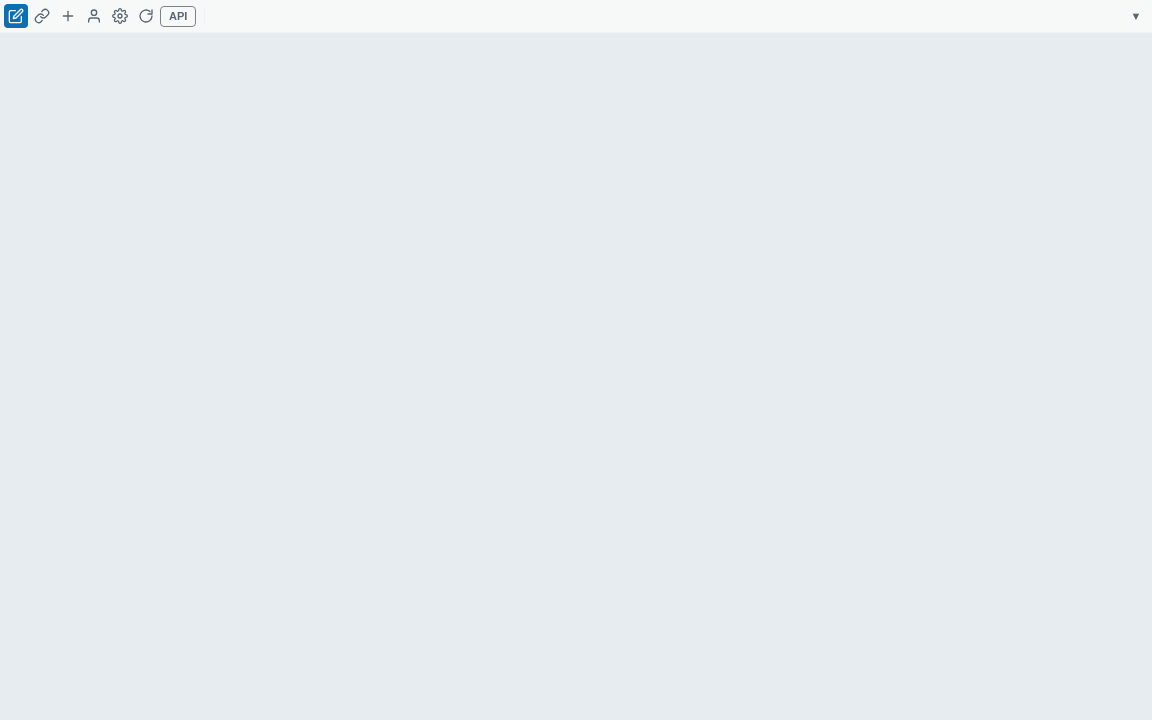
it: App (Linux向け動画再生設定の配線) › linuxではアプリ設定にハードウェアデコードの項目が表示される
The width and height of the screenshot is (1152, 720).
Click the button titled "アプリ設定 (Ctrl+,)" at (120, 16), box [108, 4, 132, 28]
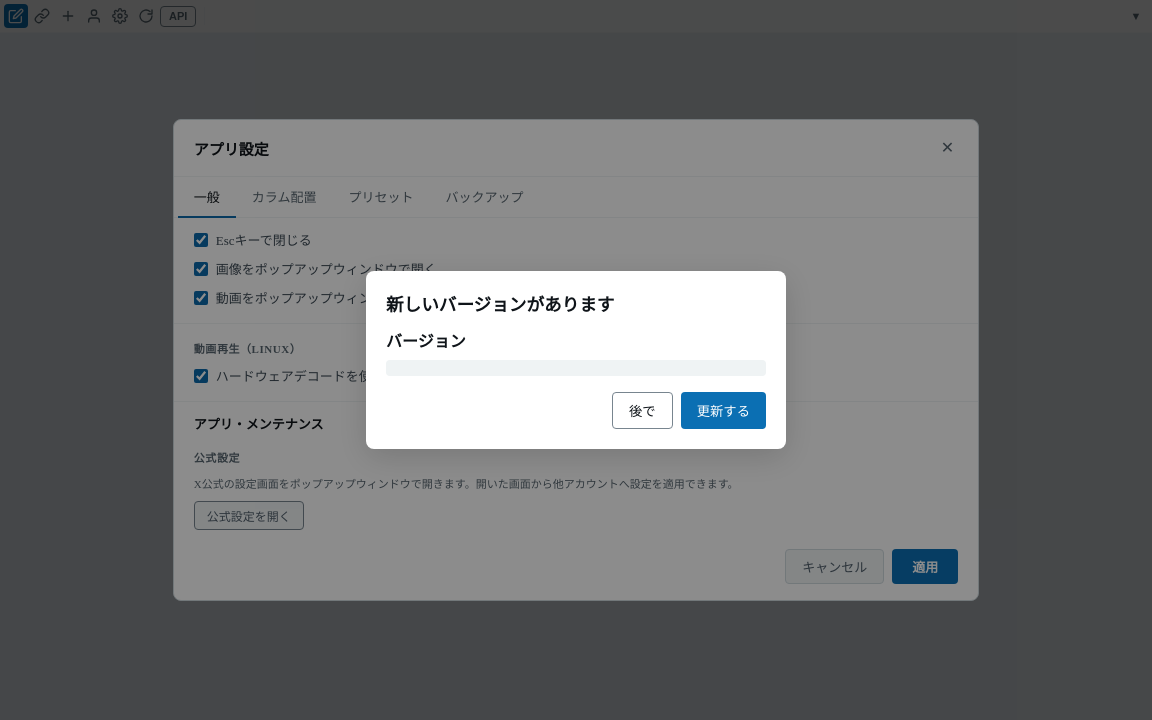
Expected: the checkbox labelled "ハードウェアデコードを使う（VA-API）" is shown, [194, 369, 208, 383]
